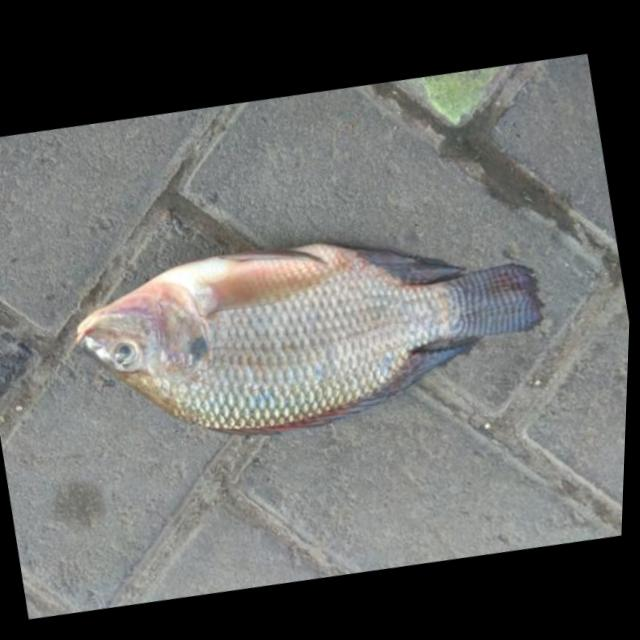Tilapia: (53, 183, 568, 480)
